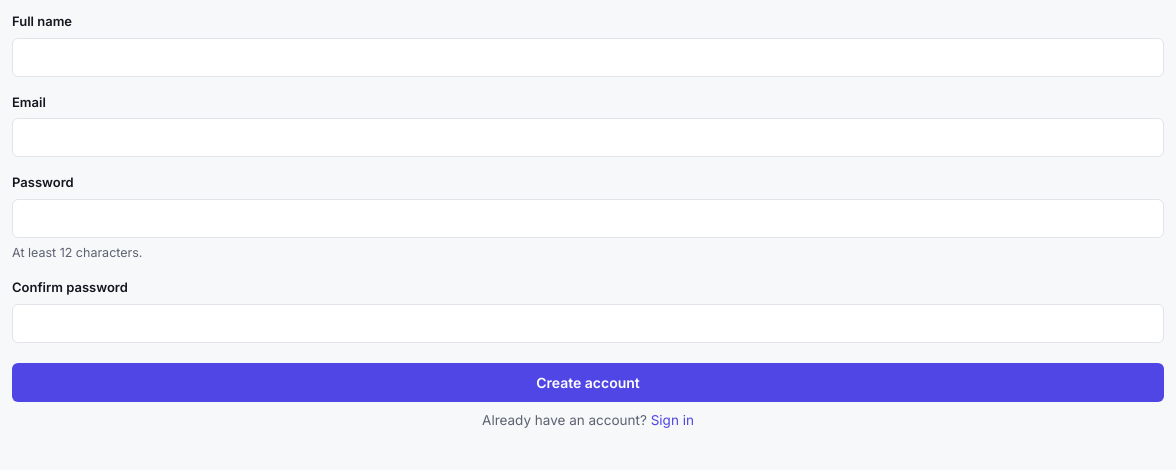
Test: SignupForm › shows an error when the passwords do not match
Type "Ada Lovelace" into the field labelled "Full name" at [588, 57], box [12,38,1164,76]
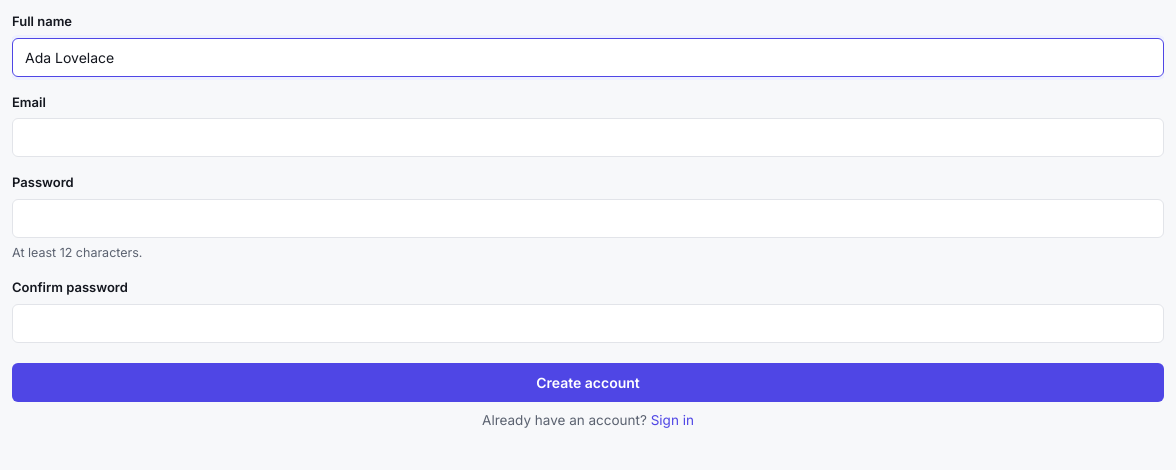
Type "ada@example.com" into the field labelled "Email" at [588, 138], box [12,118,1164,157]
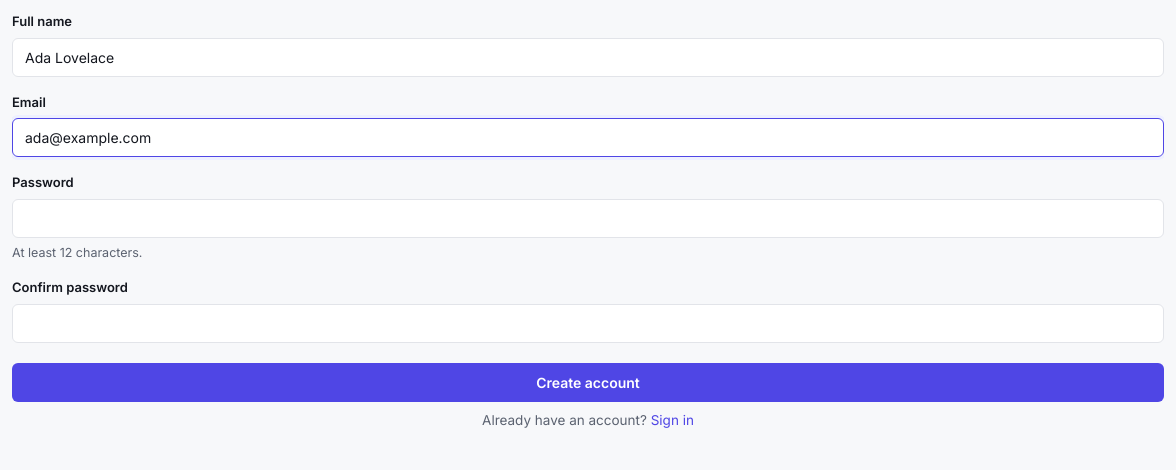
Type "a-strong-password-123" into the password field labelled "Password" at [588, 218], box [12,198,1164,238]
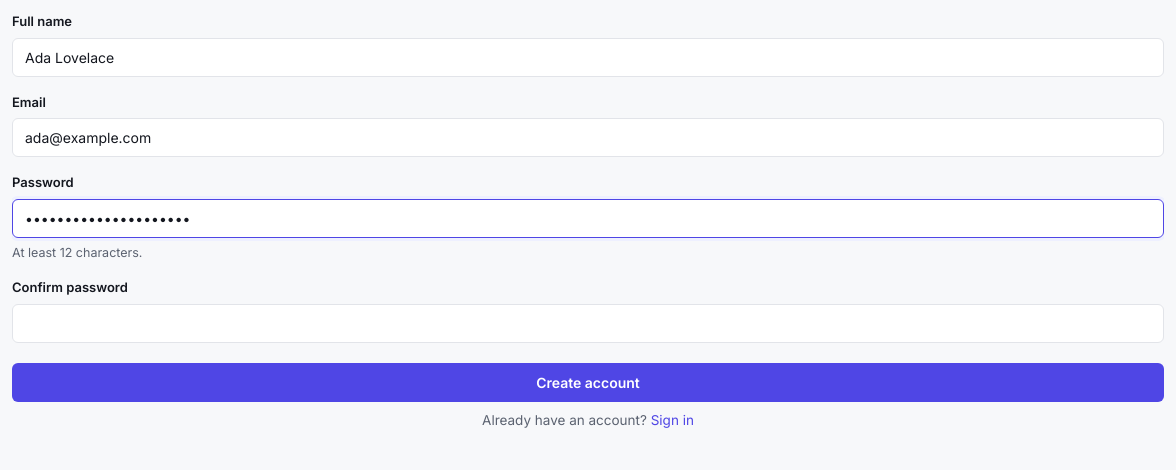
Type "a-different-password-456" into the password field labelled "Confirm password" at [588, 323], box [12,304,1164,343]
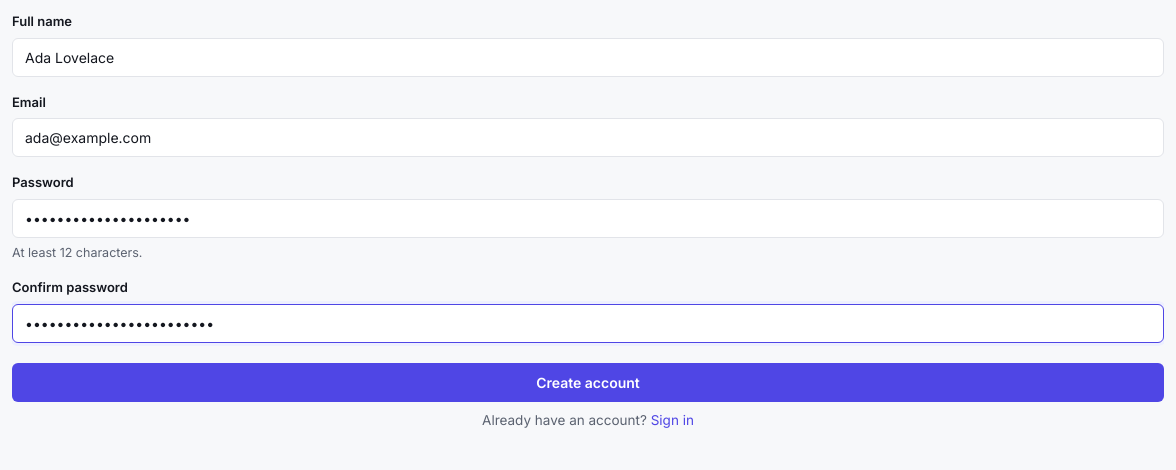
Click the button "Create account" at [588, 382], box [12,363,1164,402]
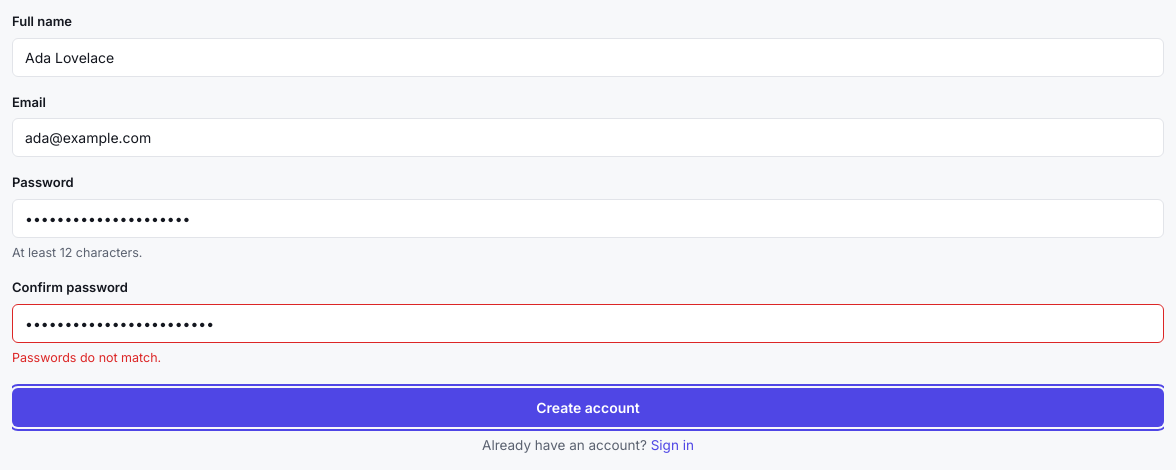
Expected: the text "Passwords do not match." is shown, [12,350,161,365]
